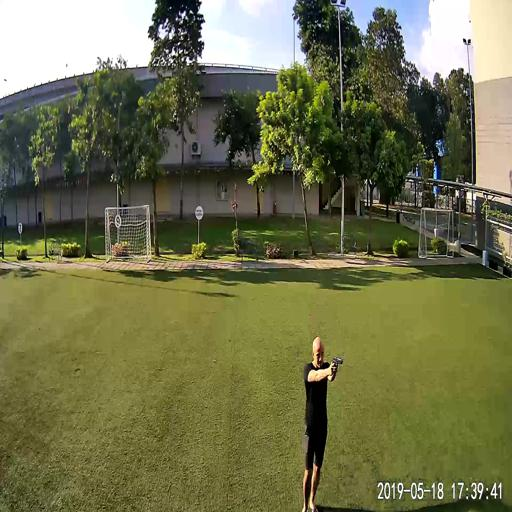pistol: (331, 354, 342, 371)
